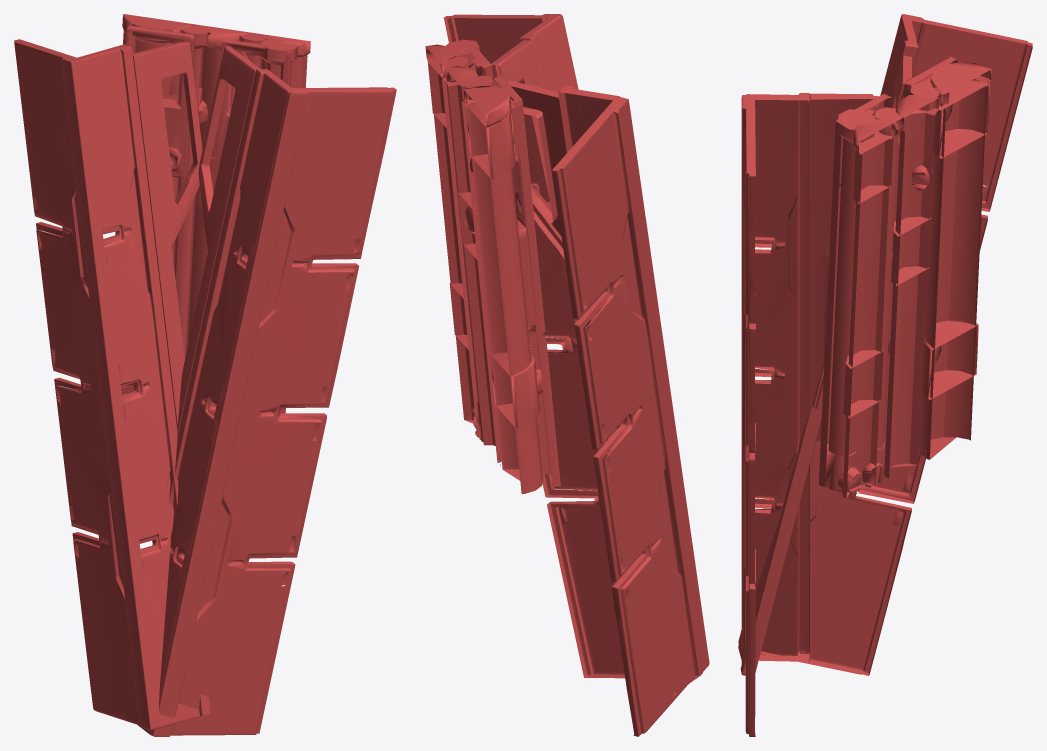
File: Final_Corner_02.FBX
3 views of the same model, side by side, from view 1: azimuth 30°, elevation 25°; view 2: azimuth 150°, elevation 25°; view 3: azimuth 270°, elevation 25° (orthographic). The views are drawn at different scales.
Visible parts, largest first — view 1: Combined_F61671A3; view 2: Combined_F61671A3; view 3: Combined_F61671A3.
Part boxes in pixels (x1=…): Combined_F61671A3: x1=14, y1=14, x2=396, y2=736; Combined_F61671A3: x1=425, y1=14, x2=709, y2=736; Combined_F61671A3: x1=738, y1=14, x2=1032, y2=736.
Size of the model in its own units: 385 by 377 by 942.
